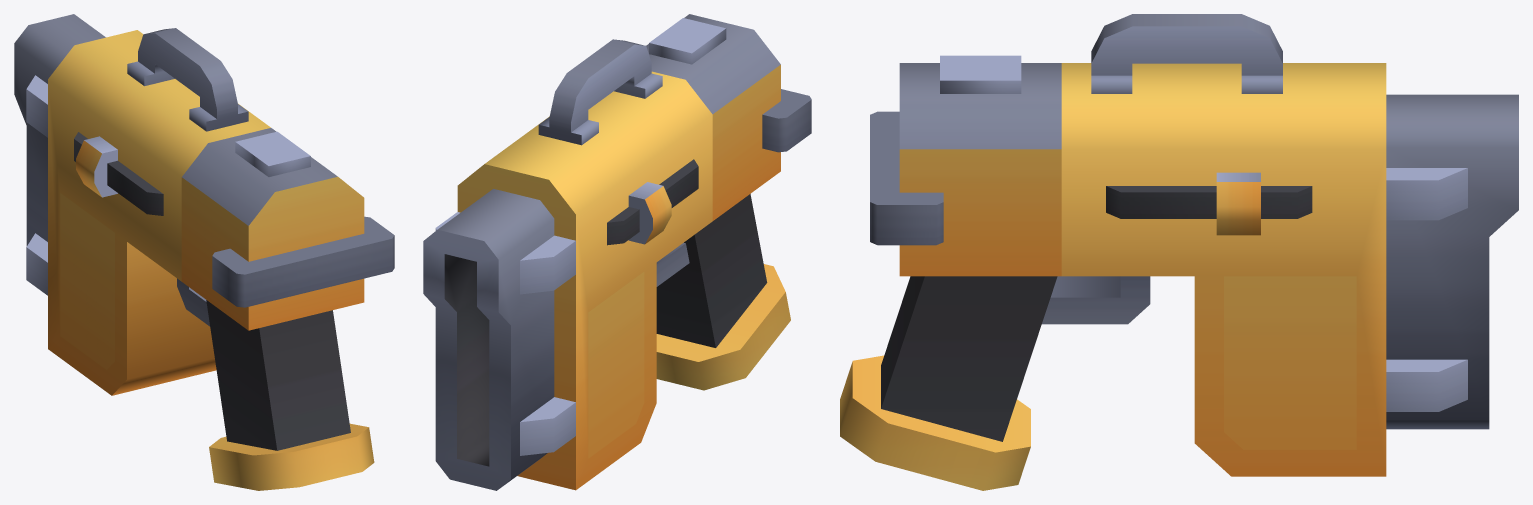
File: blaster-k.glb
3 renders of one model, left to right at view 1: azimuth 30°, elevation 25°; view 2: azimuth 150°, elevation 25°; view 3: azimuth 270°, elevation 25°, orthographic. The views are drawn at different scales.
Visible parts, largest first — view 1: blaster-k; view 2: blaster-k; view 3: blaster-k.
Boxes of the visible parts, bbox=[...] form: blaster-k: bbox=[14, 14, 394, 490]; blaster-k: bbox=[423, 14, 811, 490]; blaster-k: bbox=[840, 14, 1518, 490].
Size of the model in its own units: 0.155 by 0.3338 by 0.4604.
1 material, 1 textured.
